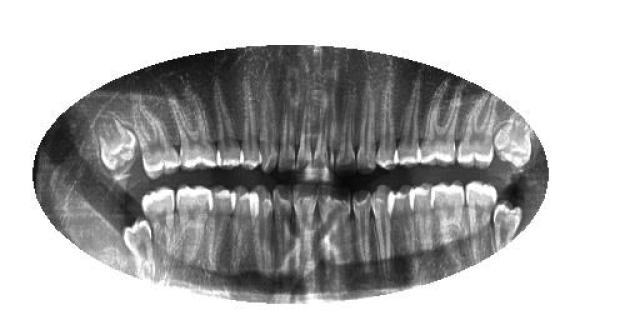Restorations: (96, 117, 142, 175), (493, 114, 535, 168), (122, 216, 156, 282)
